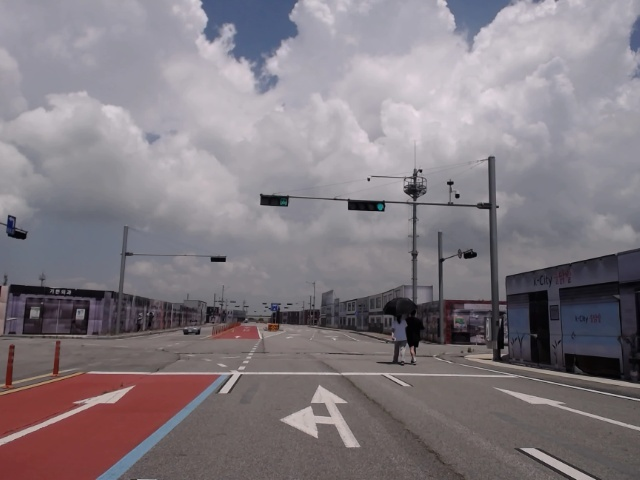straight_green_4: (348, 201, 384, 211)
